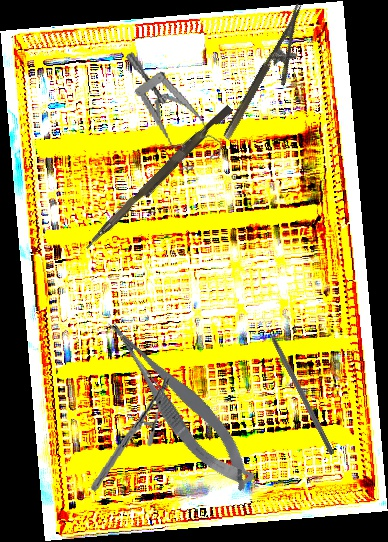Hook Surgical: (259, 313, 337, 456)
Micro Scissor: (99, 300, 263, 506)
Needle Holder: (220, 2, 324, 151), (90, 369, 172, 498)
Pusher: (83, 100, 234, 256)
Speculum: (124, 36, 226, 180)
